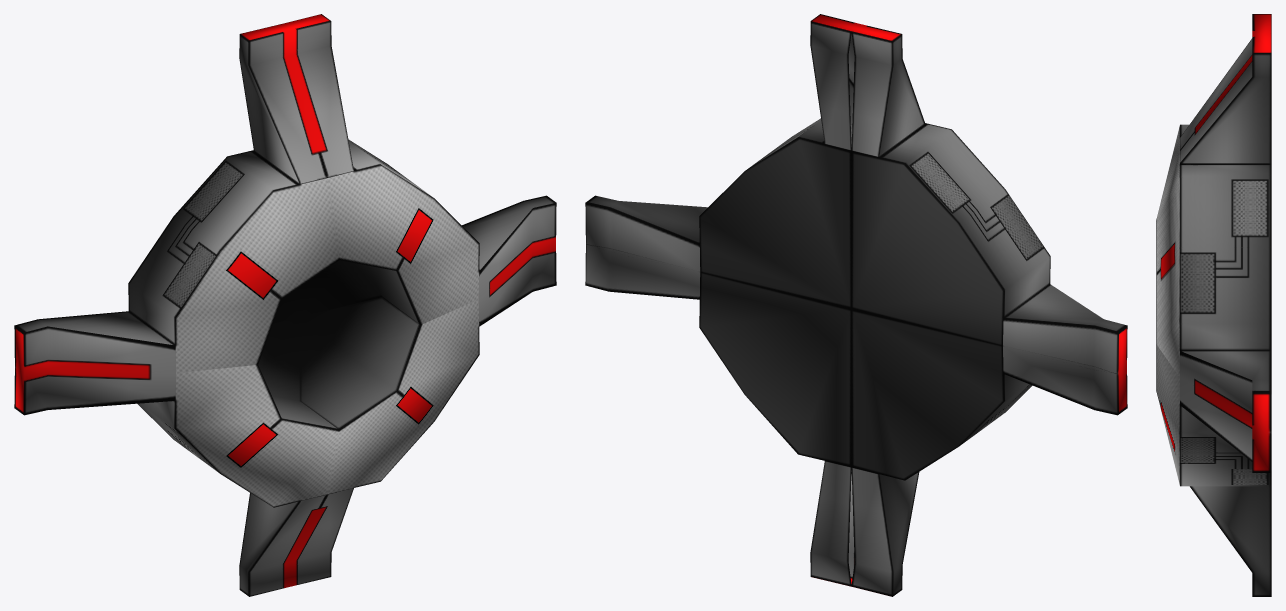
Rendered from repulser.fbx.
The picture shows the model from 3 angles, left to right: view 1: azimuth 30°, elevation 25°; view 2: azimuth 150°, elevation 25°; view 3: azimuth 270°, elevation 25°; orthographic projection. The views are drawn at different scales.
Visible parts, largest first — view 1: Cylinder; view 2: Cylinder; view 3: Cylinder.
Boxes of the visible parts, <box> form: Cylinder: <box>14,14,556,596</box>; Cylinder: <box>585,14,1127,596</box>; Cylinder: <box>1156,14,1271,596</box>.
Bounding box in the file's own units: 3.52 × 3.51 × 0.6732.
1 material, 1 textured.
